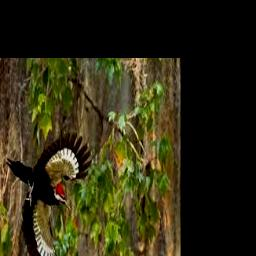Woodpecker: (6, 130, 94, 256)
